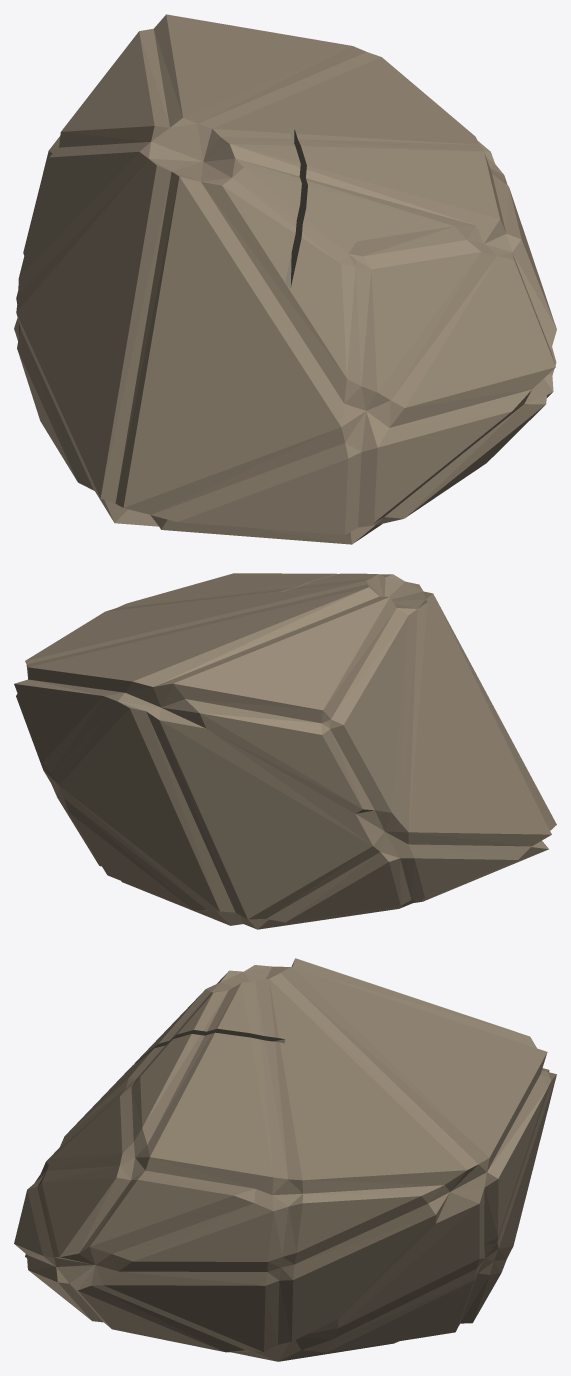
The model's file is Granit_V2_3_LOD0.fbx.
3 views of the same model, one above another, from view 1: azimuth 30°, elevation 25°; view 2: azimuth 150°, elevation 25°; view 3: azimuth 270°, elevation 25° (orthographic). The views are drawn at different scales.
Parts seen in each view (by area): view 1: Granit_V2_3; view 2: Granit_V2_3; view 3: Granit_V2_3.
Part boxes in pixels (<box>): Granit_V2_3: <box>14,14,556,544</box>; Granit_V2_3: <box>14,573,556,929</box>; Granit_V2_3: <box>14,958,556,1361</box>.
Size of the model in its own units: 235 by 154 by 268.
